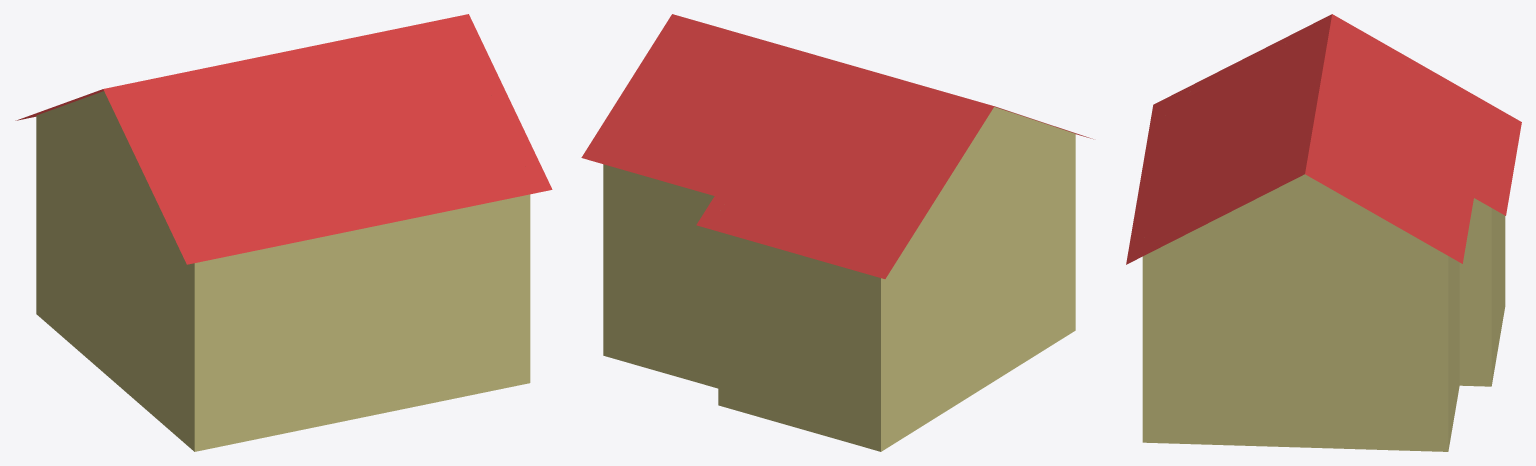
3 renders of one model, left to right at view 1: azimuth 30°, elevation 25°; view 2: azimuth 150°, elevation 25°; view 3: azimuth 270°, elevation 25°, orthographic. The views are drawn at different scales.
Bounding box in the file's own units: 13.03 × 12.79 × 9.98.
